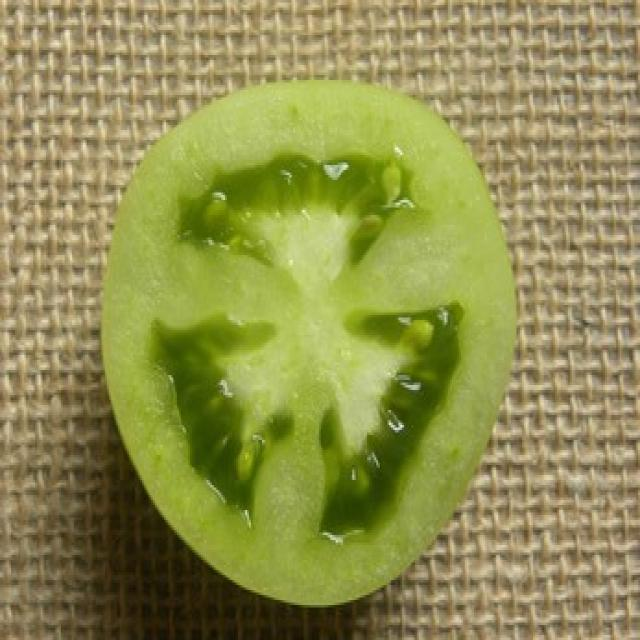yesil: (99, 72, 502, 607)
